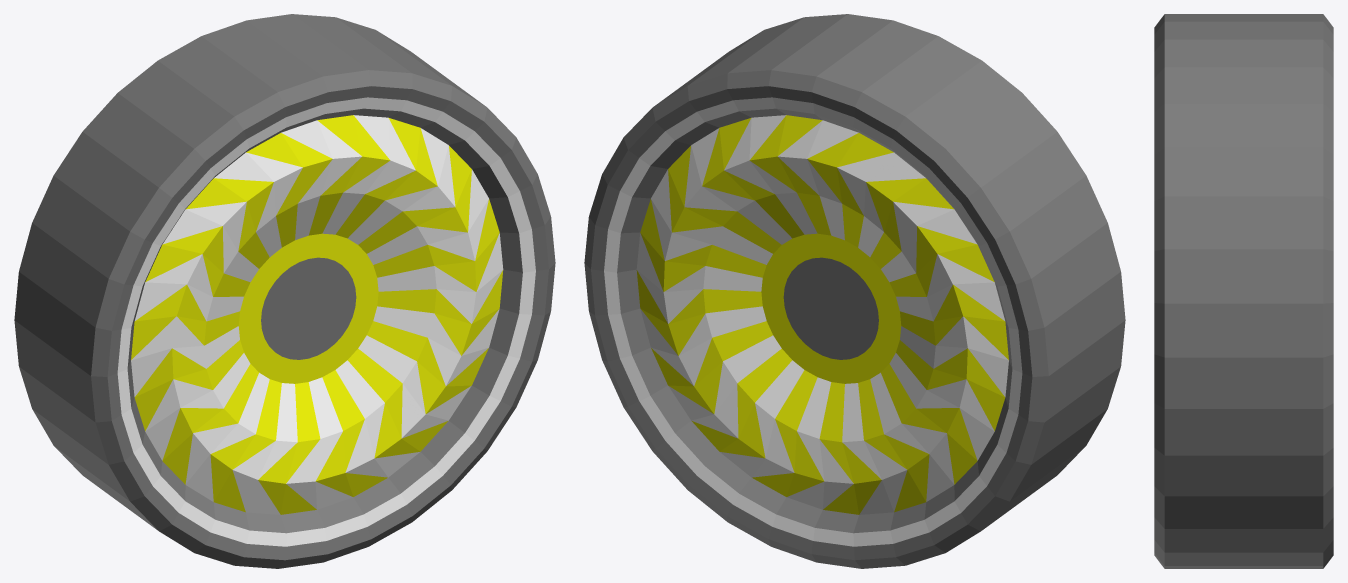
The model's file is patrol_tyre.dae.
3 views of the same model, side by side, from view 1: azimuth 30°, elevation 25°; view 2: azimuth 150°, elevation 25°; view 3: azimuth 270°, elevation 25° (orthographic). The views are drawn at different scales.
Visible parts, largest first — view 1: RF_Tyre.001; view 2: RF_Tyre.001; view 3: RF_Tyre.001.
Part boxes in pixels (<box>): RF_Tyre.001: <box>14,14,555,568</box>; RF_Tyre.001: <box>584,14,1125,568</box>; RF_Tyre.001: <box>1154,14,1333,568</box>.
Size of the model in its own units: 0.28 by 0.0905 by 0.28.
